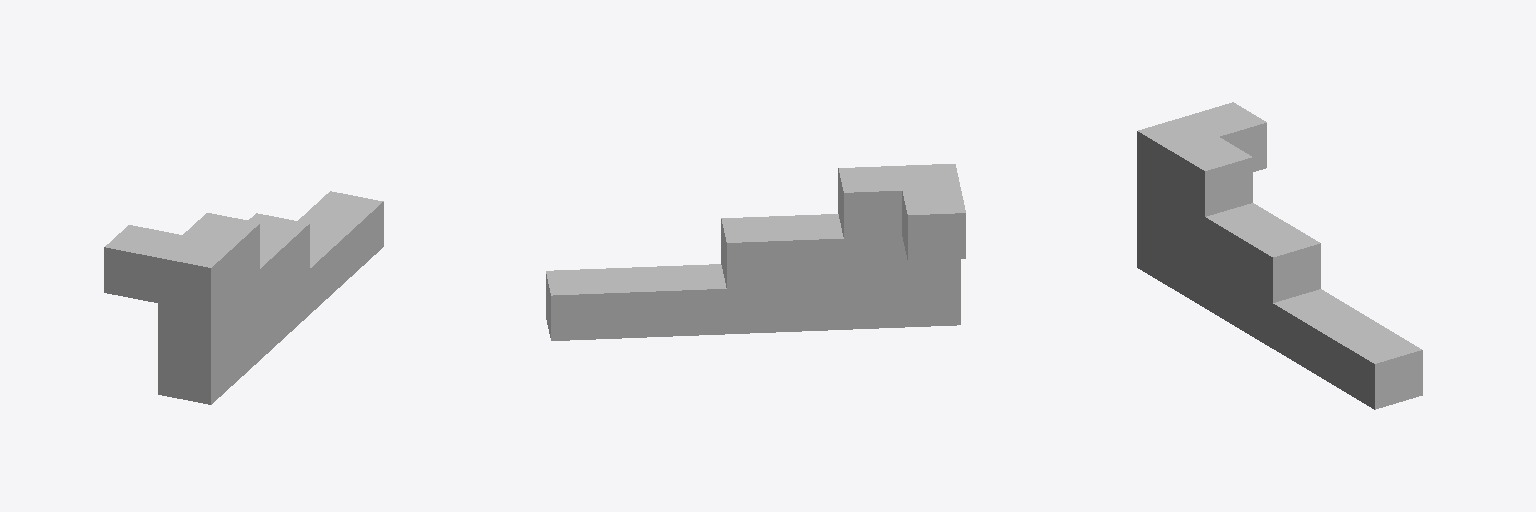
The model's file is 3d model for detection.obj.
3 renders of one model, left to right at view 1: azimuth 30°, elevation 25°; view 2: azimuth 150°, elevation 25°; view 3: azimuth 270°, elevation 25°, orthographic.
Bounding box in the file's own units: 72.14 × 27 × 50.99.